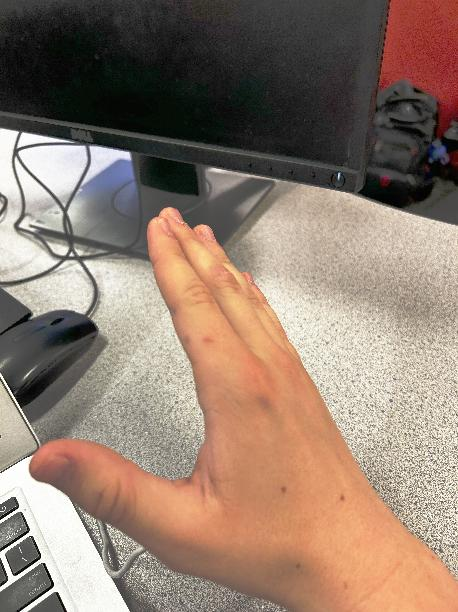Paper: (21, 135, 437, 580)
